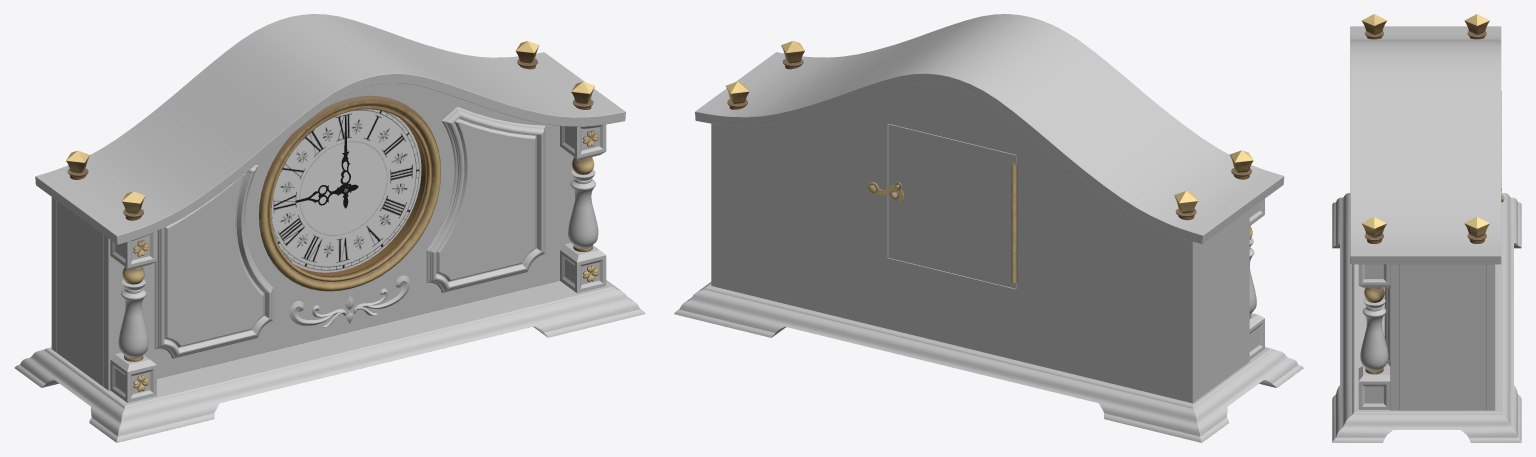
The model's file is Antique_clock.fbx.
The picture shows the model from 3 angles, left to right: view 1: azimuth 30°, elevation 25°; view 2: azimuth 150°, elevation 25°; view 3: azimuth 270°, elevation 25°; orthographic projection. The views are drawn at different scales.
Visible parts, largest first — view 1: Wood, Metall; view 2: Wood, Metall; view 3: Wood, Metall.
Part boxes in pixels (x1=…): Wood: x1=14, y1=14, x2=645, y2=442; Metall: x1=66, y1=41, x2=598, y2=391; Wood: x1=674, y1=14, x2=1303, y2=442; Metall: x1=726, y1=41, x2=1253, y2=318; Wood: x1=1332, y1=26, x2=1521, y2=442; Metall: x1=1361, y1=14, x2=1504, y2=374.
Bounding box in the file's own units: 42.98 × 22.87 × 14.41.
